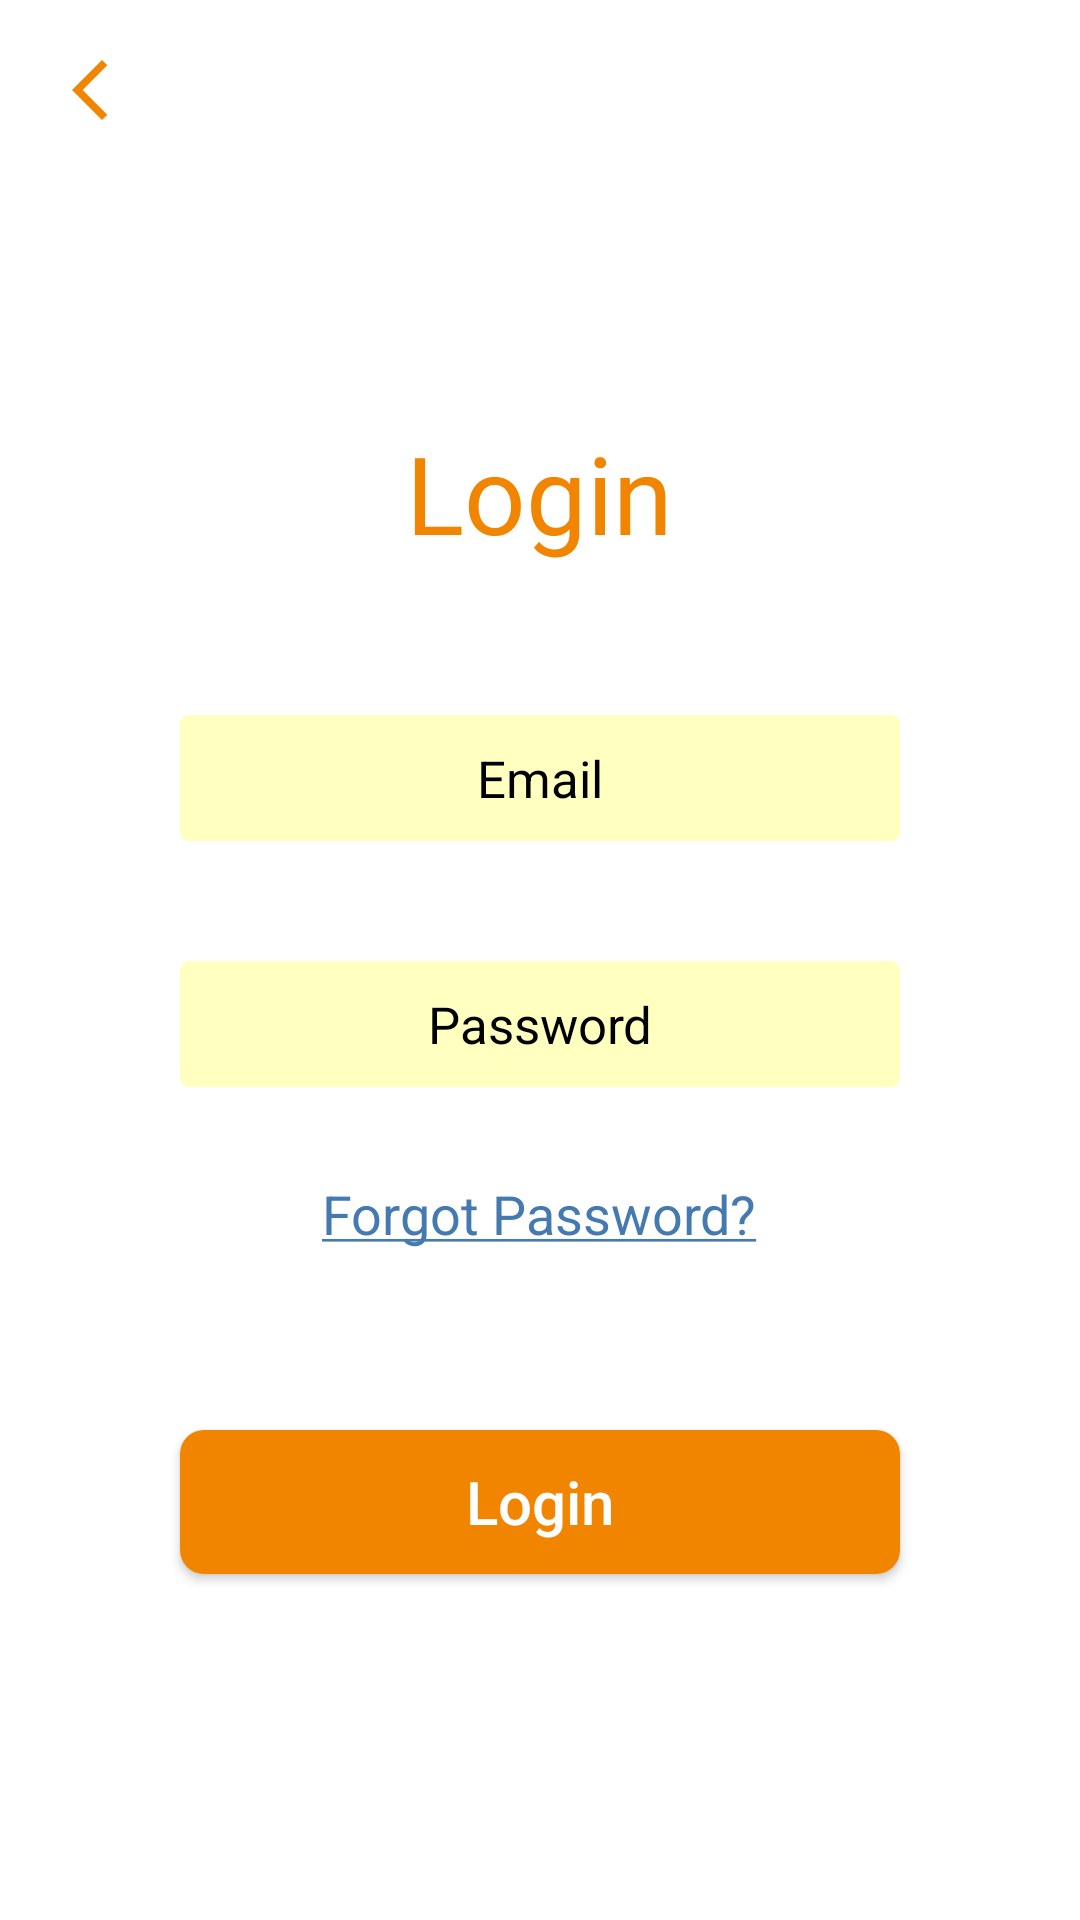

Named icons in this screenshot (1080 × 1920) and their bounding boxes, (x1, y1, x2, y2):
back: (72, 60, 107, 120)
